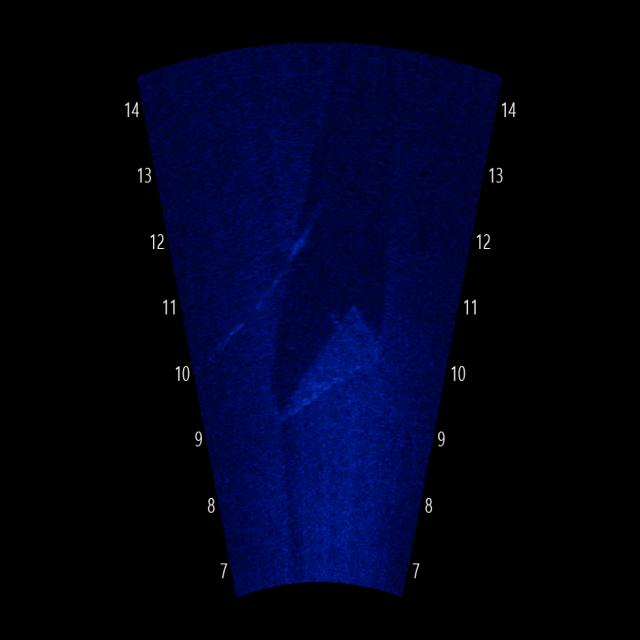triangle: (274, 283, 391, 443)
